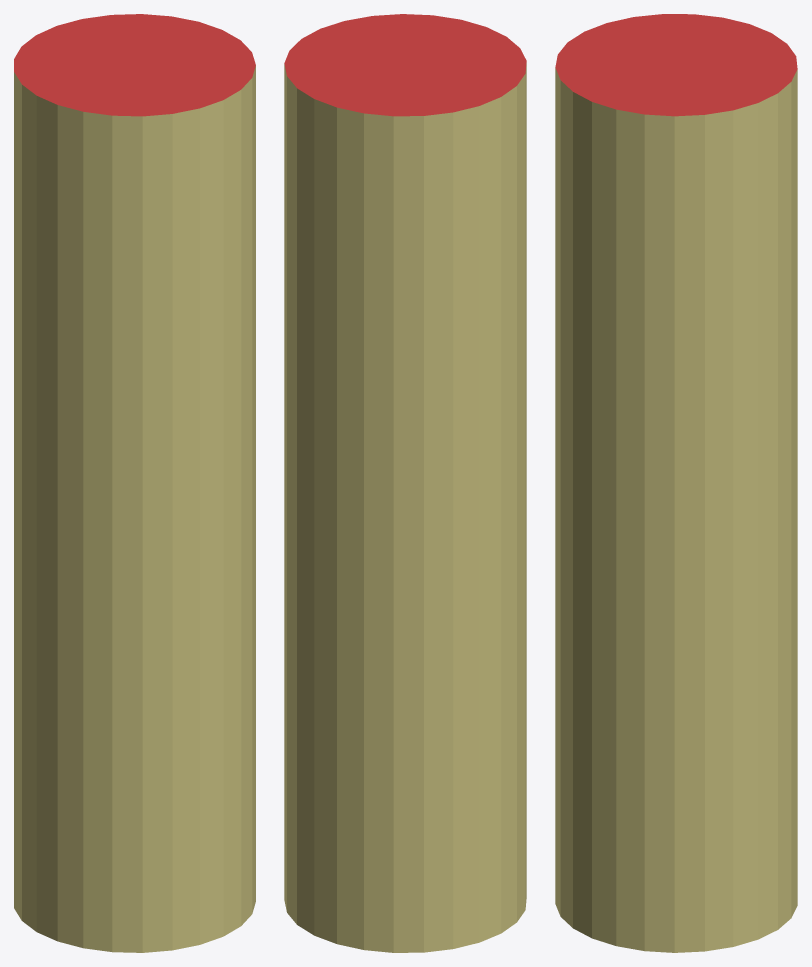
3 renders of one model, left to right at view 1: azimuth 30°, elevation 25°; view 2: azimuth 150°, elevation 25°; view 3: azimuth 270°, elevation 25°, orthographic.
Size of the model in its own units: 2.56 by 2.56 by 9.74.
